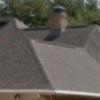chimneys: (52, 6, 68, 36)
